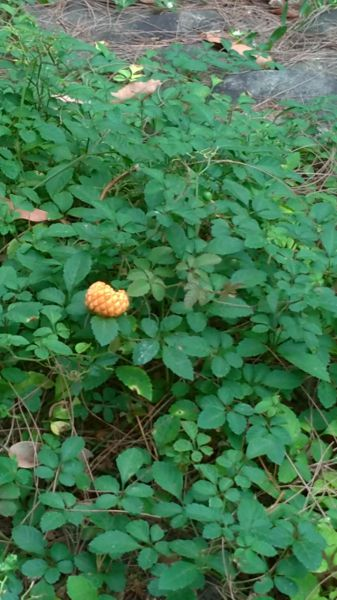eggs: (83, 277, 134, 324)
